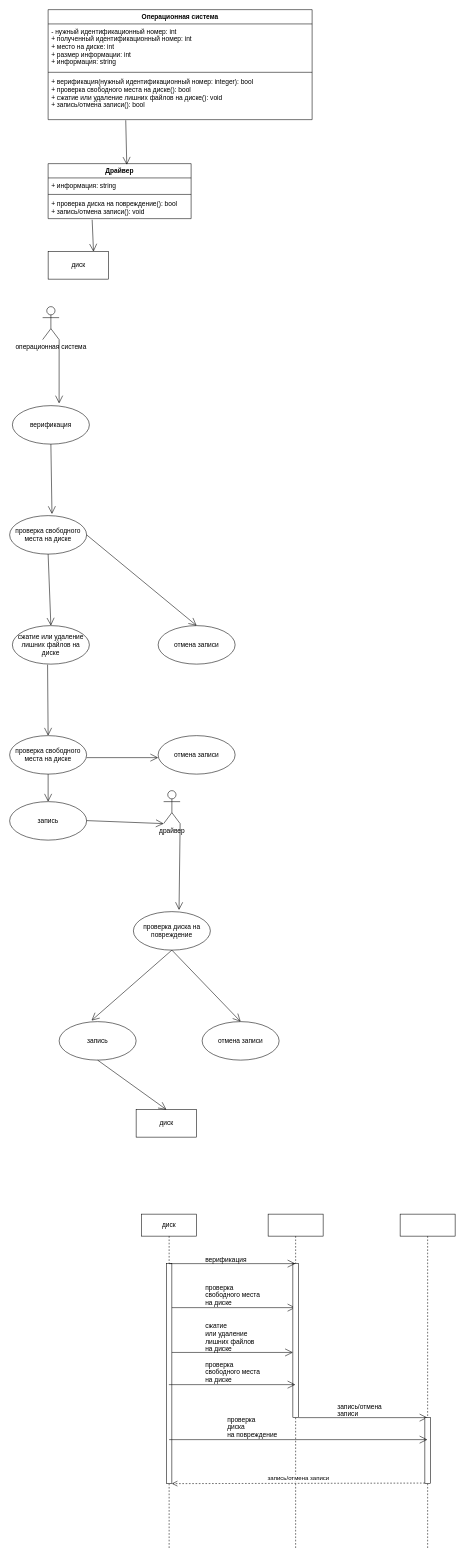
Some shapes in this 465 by 1559 pixel diagram are drawn without their labels. The box of each missing label's shape, as (x1, y1, x2, y2) in pixels:
:Драйвер: (400, 1214, 455, 1550)
:Операционная система: (268, 1214, 323, 1550)
